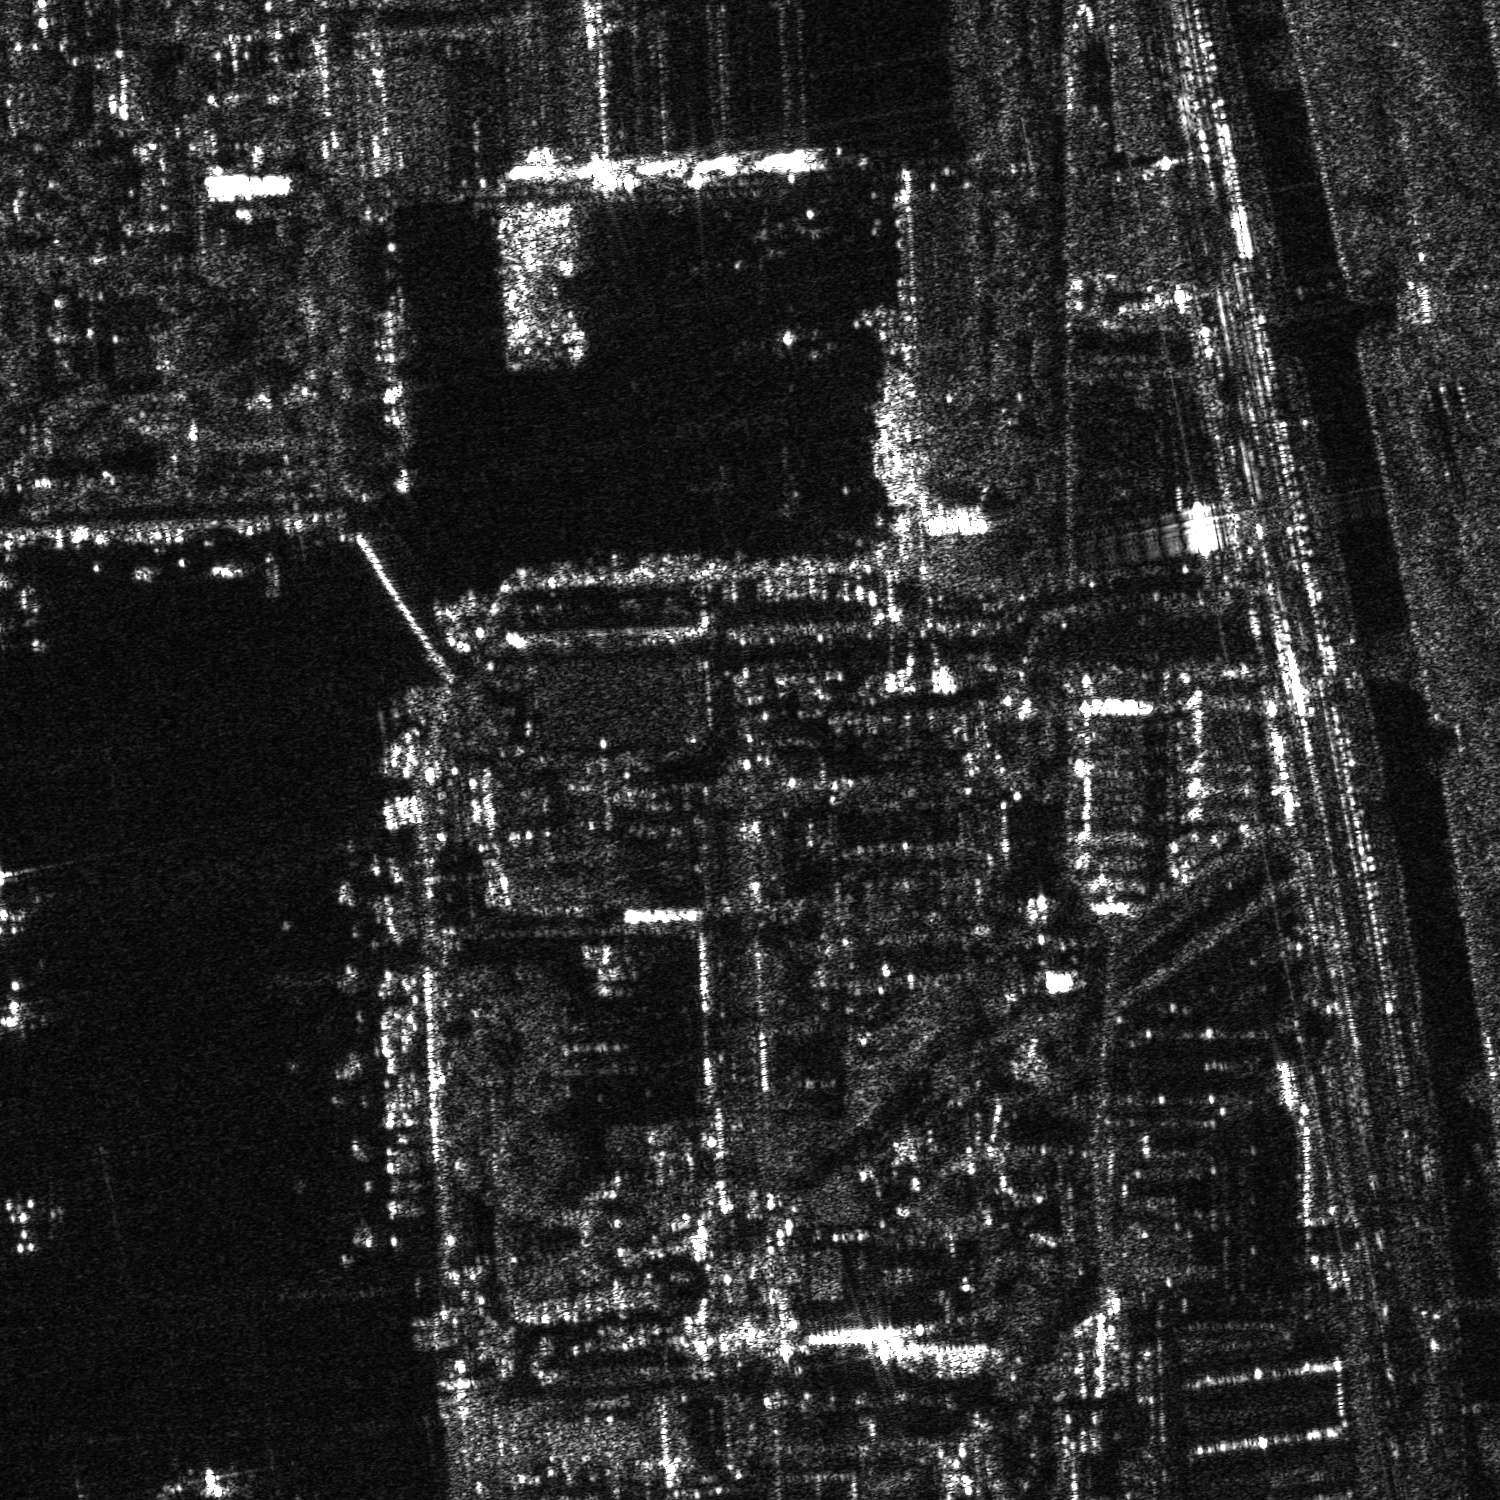A220: (1, 1191, 73, 1262)
Boeing787: (177, 1464, 247, 1499)
